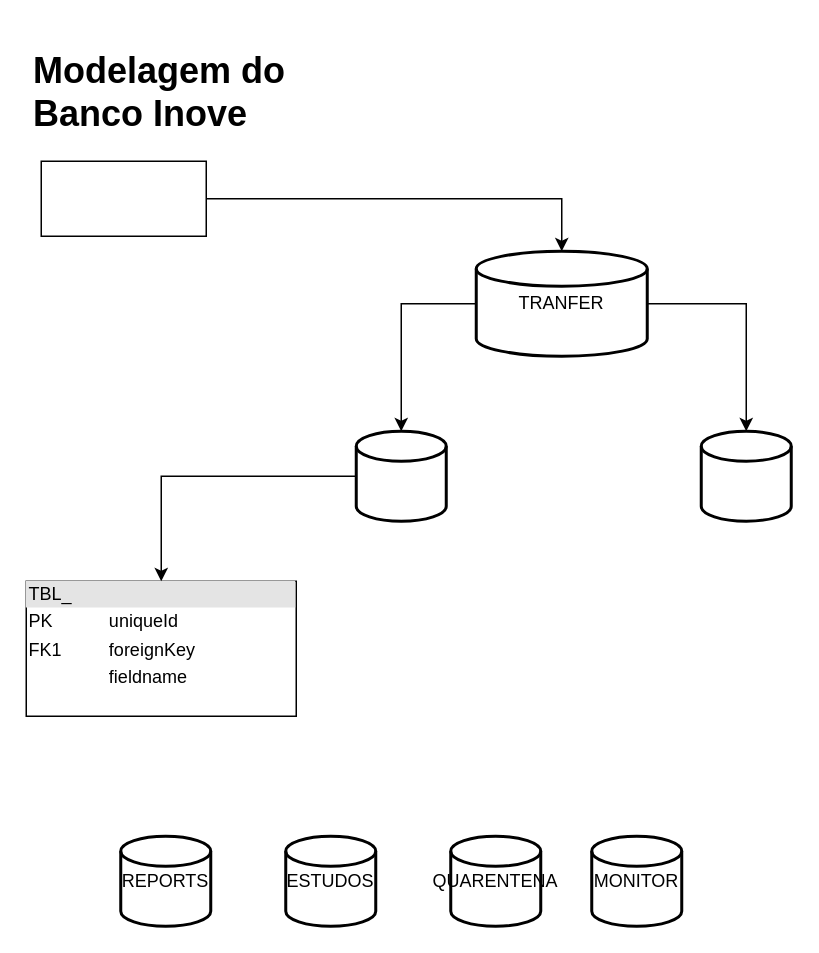
The diagram is 819 pixels wide and 953 high, and some of its shapes have lost their labels. The centre of each missing label's shape, as x and y in pixels:
Dados de ETL: (123,198)
HISTORY: (400,475)
SYSTEM: (745,475)
